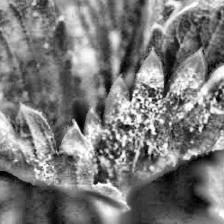Powdery Mildew Leaf: (83, 0, 224, 199), (0, 0, 130, 213)
